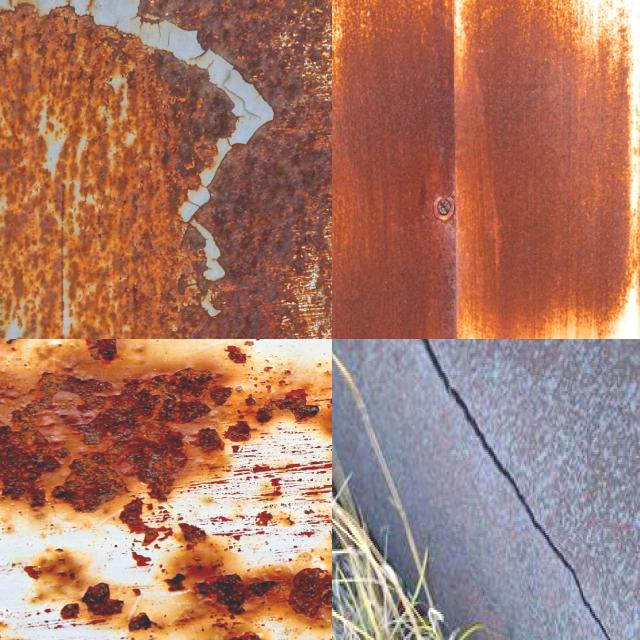Crack: (420, 339, 620, 640)
Pitting Corrosion: (0, 6, 233, 339), (0, 514, 332, 640), (0, 368, 231, 512), (198, 398, 278, 456), (120, 498, 158, 545), (276, 390, 319, 421), (86, 339, 117, 361), (225, 345, 246, 364)
Uniform Corrosion: (332, 0, 640, 339), (332, 0, 640, 339)
